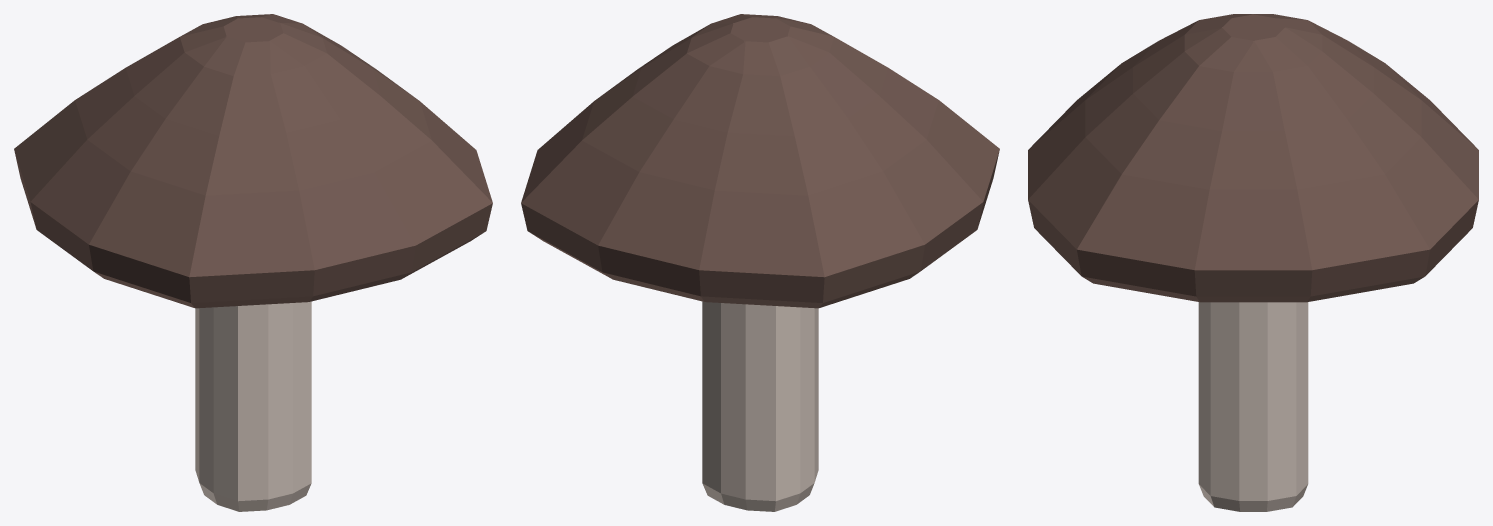
File: Mushroom1.fbx
The picture shows the model from 3 angles, left to right: view 1: azimuth 30°, elevation 25°; view 2: azimuth 150°, elevation 25°; view 3: azimuth 270°, elevation 25°; orthographic projection.
Parts seen in each view (by area): view 1: Mushroom1; view 2: Mushroom1; view 3: Mushroom1.
Boxes of the visible parts, bbox=[...] form: Mushroom1: bbox=[14, 14, 492, 511]; Mushroom1: bbox=[521, 14, 999, 511]; Mushroom1: bbox=[1028, 14, 1478, 511].
Bounding box in the file's own units: 163 × 185 × 163.
